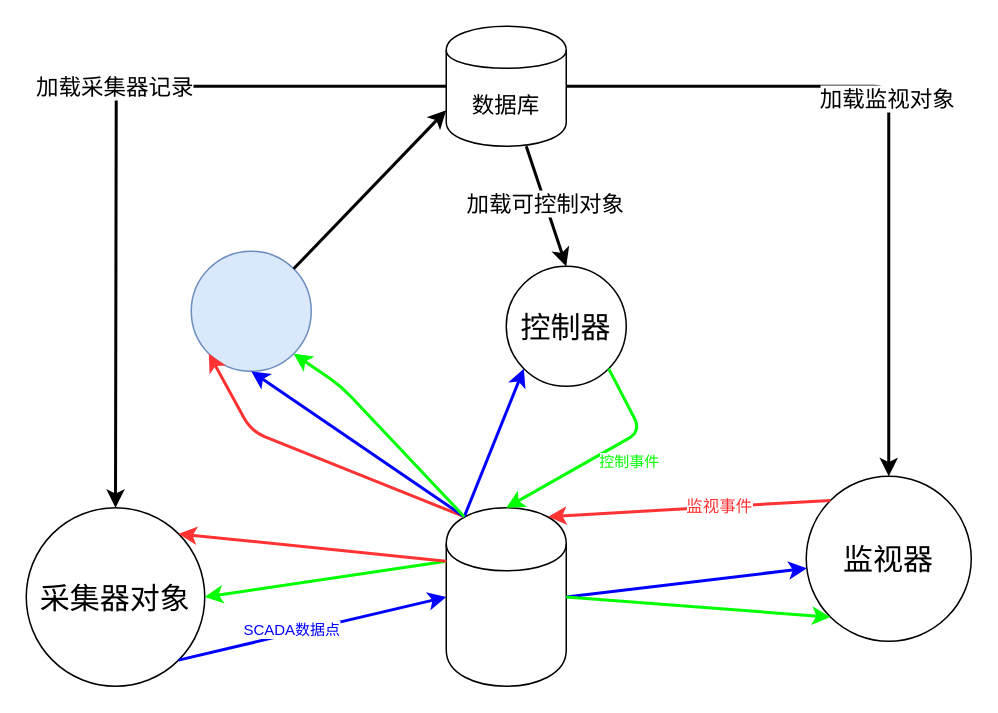
Some shapes in this 998 by 713 pixel diagram are drawn without their labels. The shapes that lost their labels are listed below. From the top down, each one's centre as x and y in pixels, then its label:
point (250, 310): 记录仪
point (505, 596): 中间件
